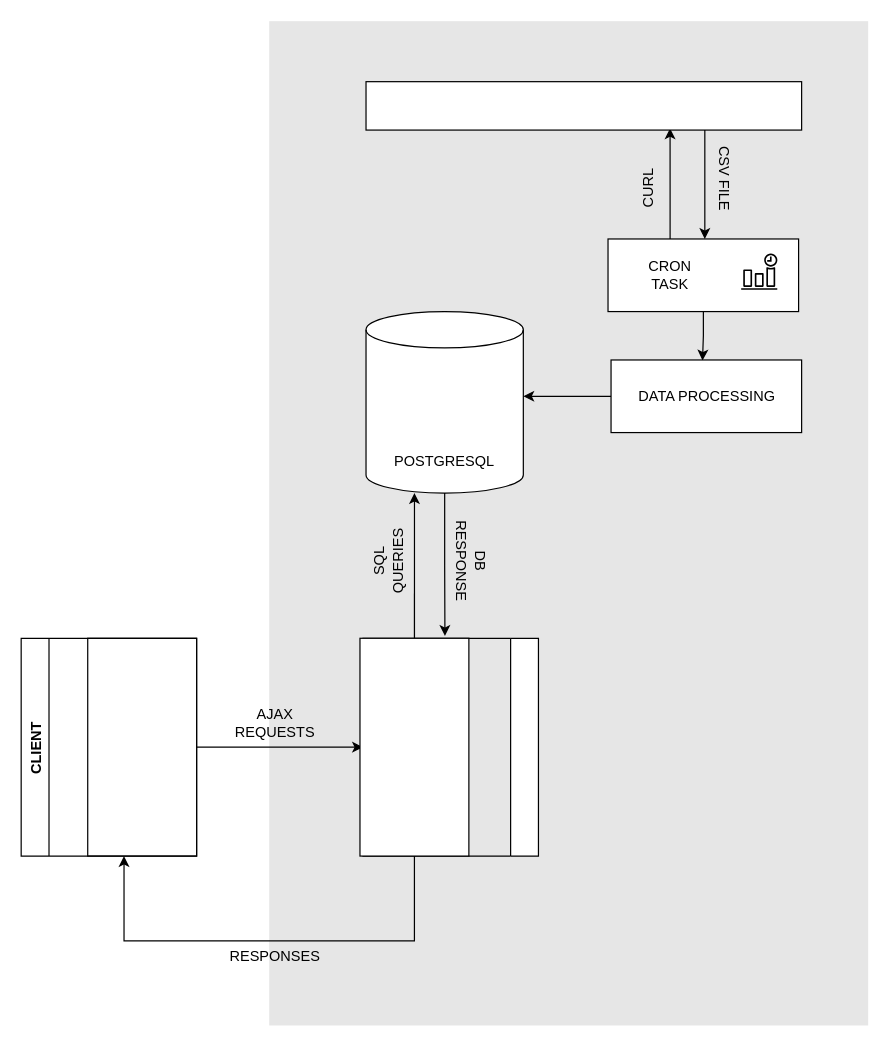
Some shapes in this 889 by 1045 pixel diagram are drawn without their labels. The shapes that lost their labels are listed below. From the top down, each one's box as (x1, y1, x2, y2) in pixels, then its label:
(365, 80, 802, 130): OPEN FOOD FACTS WEBSITE
(362, 637, 538, 856): SERVER
